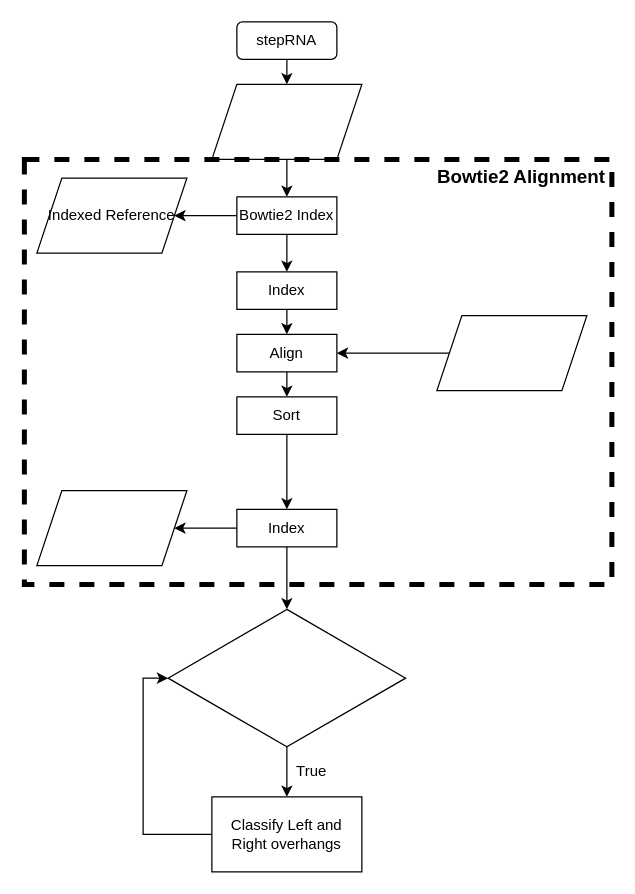
Some shapes in this 635 by 894 pixel diagram are drawn without their labels. Each missing label, with the centre of its shape:
If (flag != 4) & (D or I not in CIGARSTRING): point (286, 677)
Read Sequences (.fasta): point (511, 352)
Reference Sequences (.fasta): point (286, 121)
Sorted BAM: point (111, 527)
